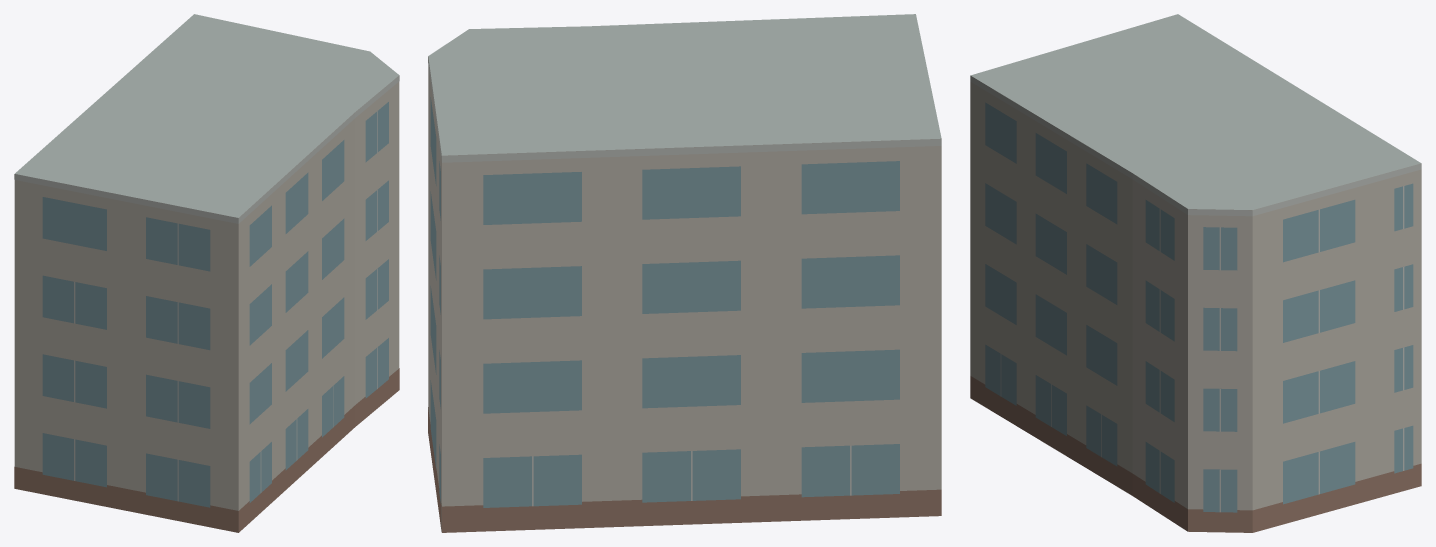
File: survey-upis-32994954.glb
The picture shows the model from 3 angles, left to right: view 1: azimuth 30°, elevation 25°; view 2: azimuth 150°, elevation 25°; view 3: azimuth 270°, elevation 25°; orthographic projection. The views are drawn at different scales.
Parts seen in each view (by area): view 1: survey-upis-32994954.tmp; view 2: survey-upis-32994954.tmp; view 3: survey-upis-32994954.tmp.
Boxes of the visible parts, x1,y1,x2,y2 form: survey-upis-32994954.tmp: (14, 14, 399, 532); survey-upis-32994954.tmp: (428, 14, 941, 532); survey-upis-32994954.tmp: (970, 14, 1421, 532).
Bounding box in the file's own units: 16.69 × 12.8 × 16.23.
